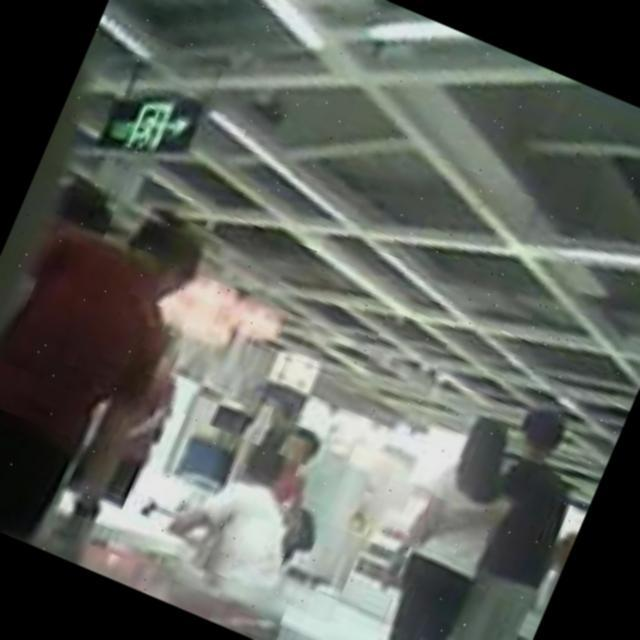person: (0, 160, 241, 573), (399, 403, 615, 640), (338, 404, 544, 640), (151, 428, 329, 608), (50, 316, 202, 518), (222, 410, 352, 558)
